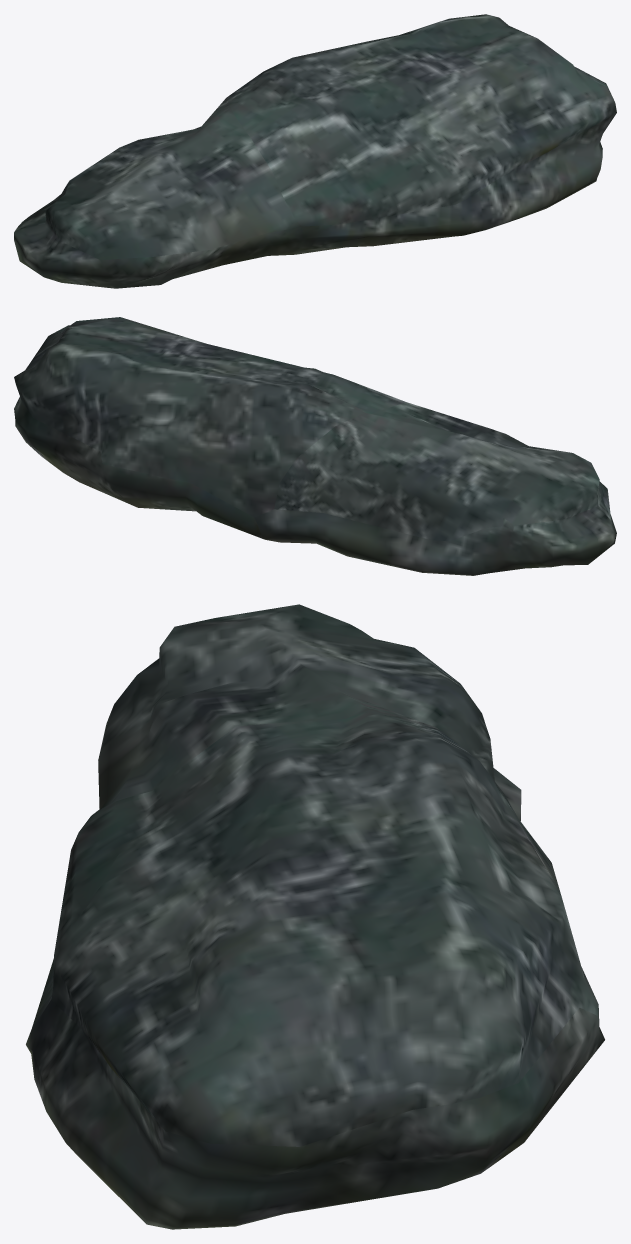
The model's file is flat-rock.glb.
3 renders of one model, top to bottom at view 1: azimuth 30°, elevation 25°; view 2: azimuth 150°, elevation 25°; view 3: azimuth 270°, elevation 25°, orthographic. The views are drawn at different scales.
Size of the model in its own units: 18.48 by 3.88 by 8.16.
Materials: 1 (1 with a texture image).
